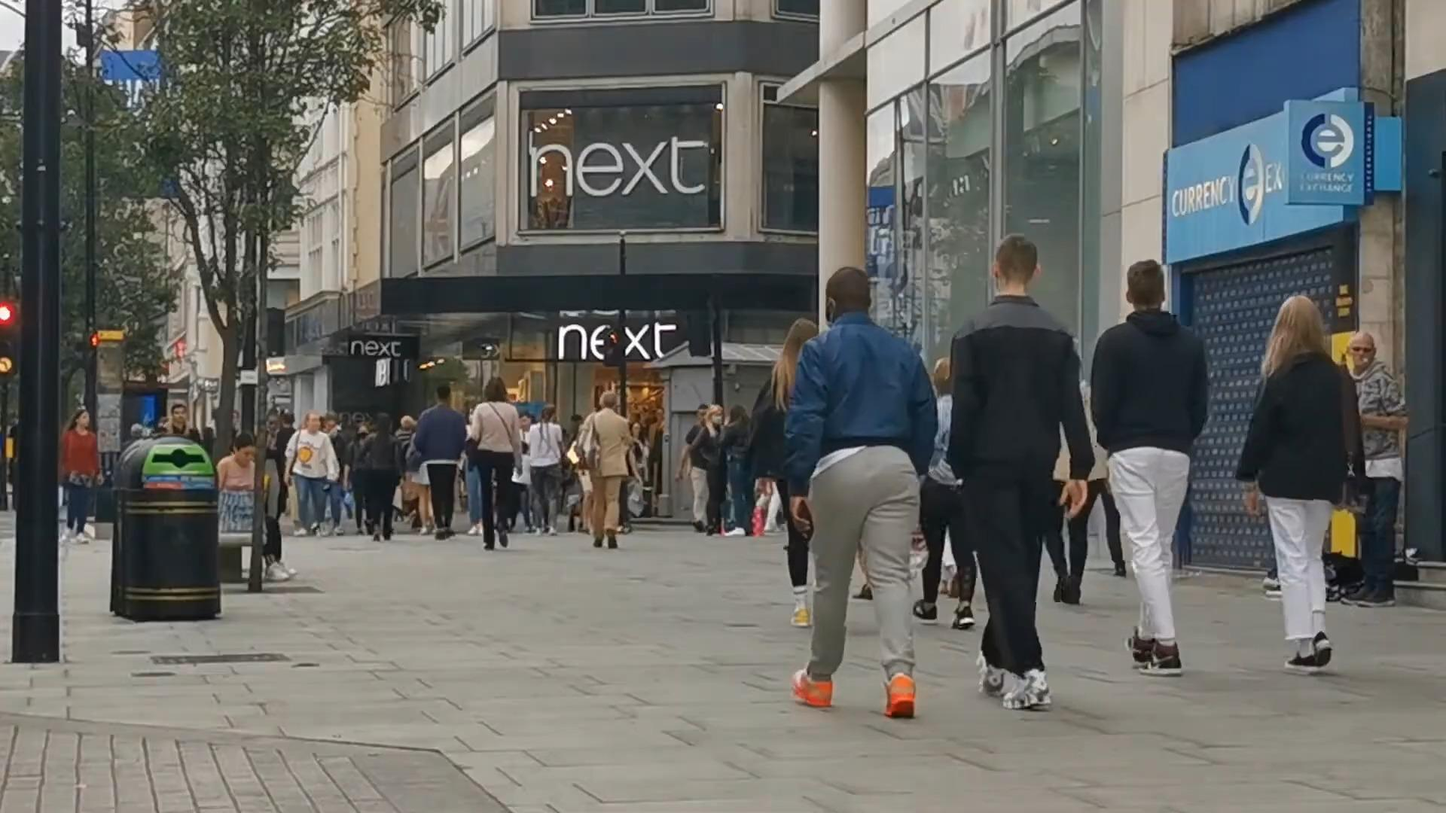no-helmet: (1268, 294, 1323, 348), (826, 265, 871, 326), (994, 233, 1040, 290), (1126, 258, 1165, 309), (780, 318, 818, 358), (1347, 331, 1377, 371), (229, 431, 256, 467), (484, 377, 507, 401), (726, 405, 750, 424), (70, 408, 90, 428), (705, 404, 723, 426), (171, 403, 189, 425), (303, 412, 321, 432), (600, 390, 618, 410)
